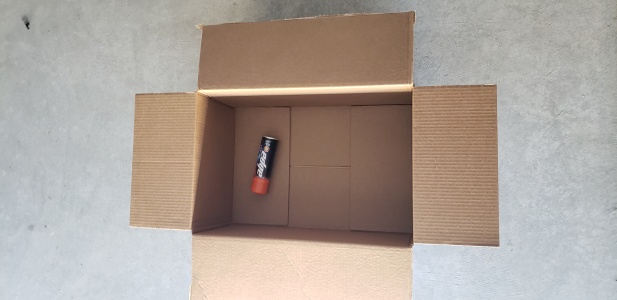innerbox: (193, 91, 411, 244)
outerbox: (128, 12, 500, 300)
product: (247, 134, 279, 196)
